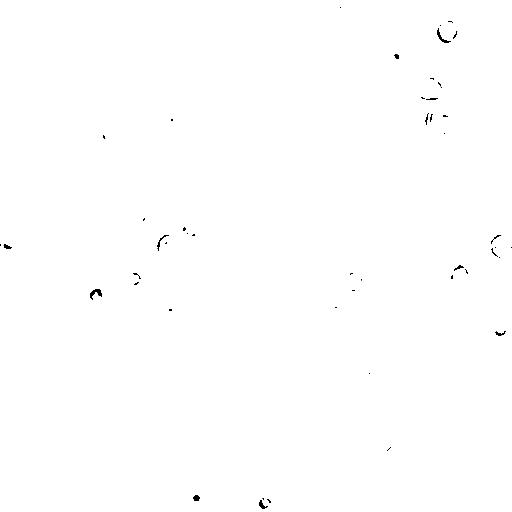micro-algae: (176, 85, 302, 203), (203, 53, 275, 118), (203, 111, 259, 179), (83, 255, 131, 307), (82, 132, 129, 179), (385, 280, 423, 315), (177, 480, 213, 511), (424, 104, 455, 139), (103, 327, 133, 360), (15, 459, 47, 488), (325, 284, 351, 316), (305, 490, 344, 511), (414, 76, 444, 102), (156, 235, 185, 261), (144, 253, 173, 278), (488, 231, 512, 260), (91, 123, 119, 147), (385, 43, 410, 67), (161, 343, 185, 366), (449, 263, 472, 287), (342, 270, 365, 293), (336, 331, 357, 356), (438, 20, 459, 44), (365, 361, 386, 383), (383, 442, 403, 465), (170, 106, 189, 129), (147, 433, 167, 453), (2, 233, 22, 252), (359, 223, 378, 242), (180, 220, 199, 239), (25, 0, 49, 13), (3, 0, 22, 16), (490, 321, 509, 337), (140, 213, 156, 232), (325, 0, 344, 15), (123, 271, 143, 285), (501, 260, 512, 285), (258, 495, 274, 511), (316, 229, 332, 245), (90, 287, 105, 303), (321, 248, 337, 263), (497, 499, 512, 511), (161, 306, 175, 318), (233, 0, 255, 6)
